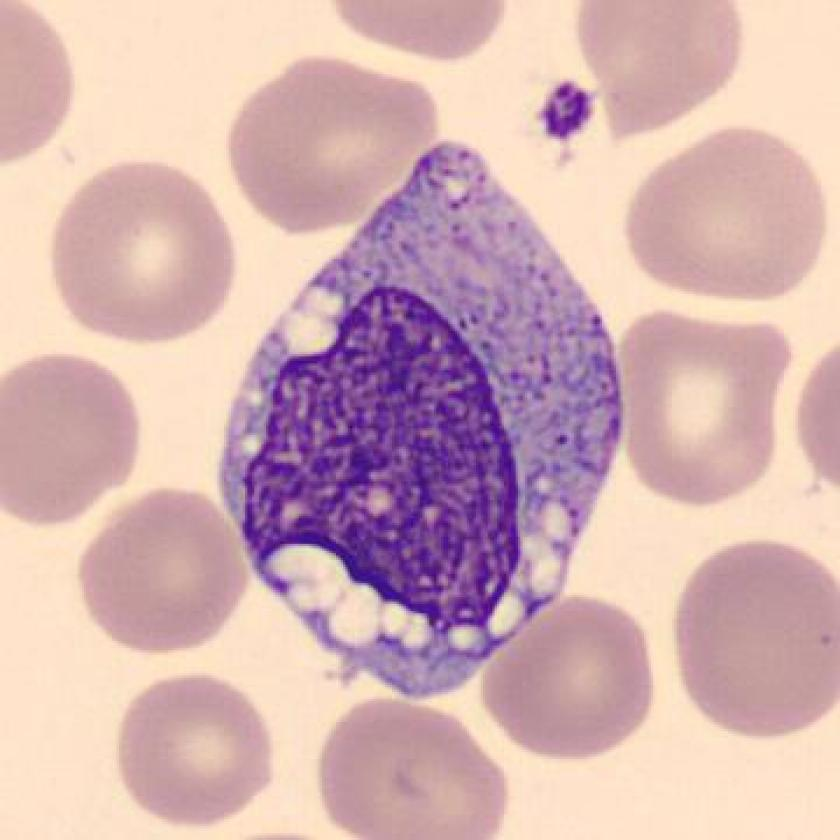monocyte: (197, 131, 652, 721)
